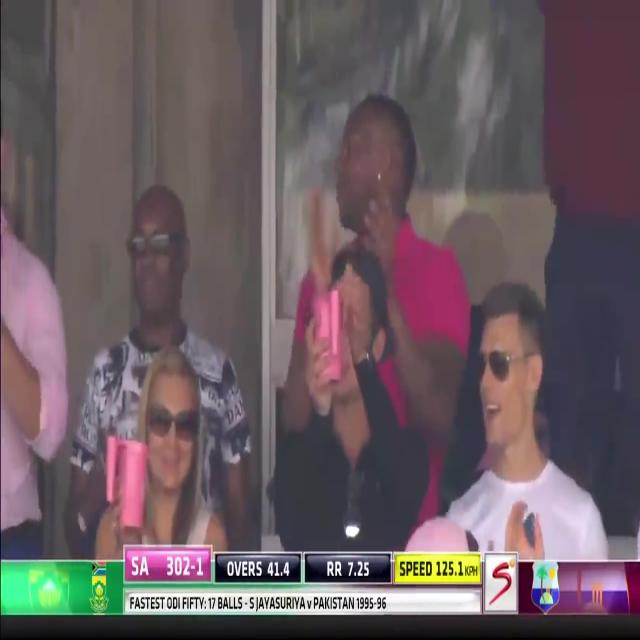Ball: (283, 0, 608, 556), (1, 1, 258, 554)
